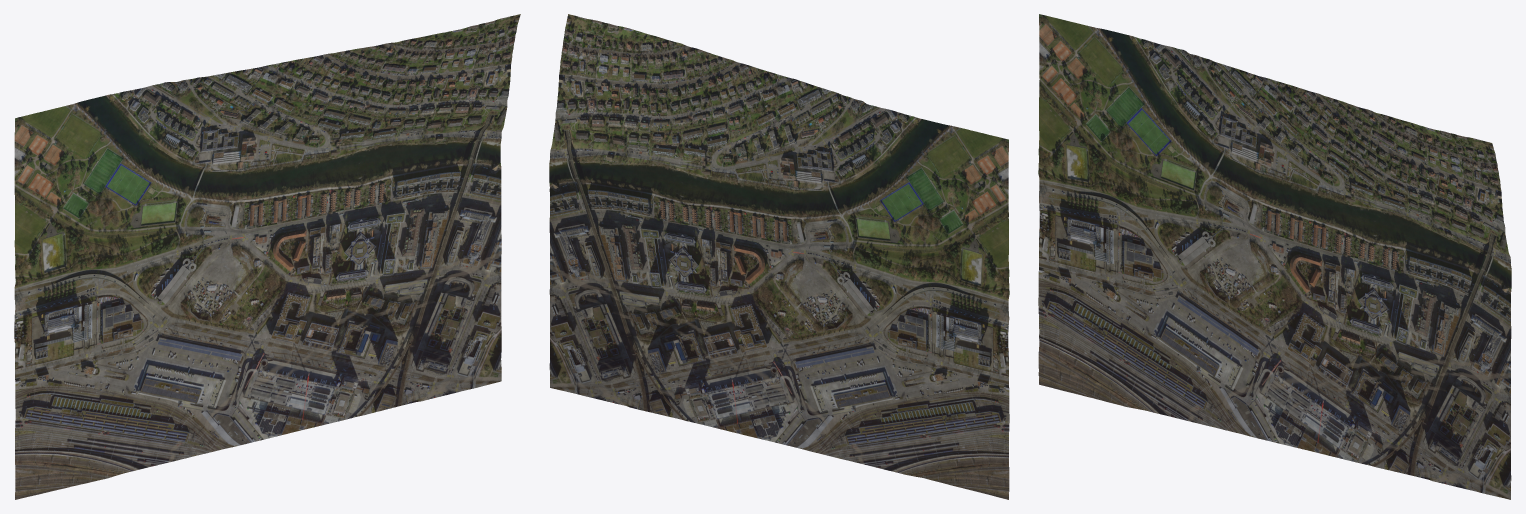
The model's file is wh-terrain.glb.
3 views of the same model, side by side, from view 1: azimuth 30°, elevation 25°; view 2: azimuth 150°, elevation 25°; view 3: azimuth 330°, elevation 25° (orthographic). The views are drawn at different scales.
Parts seen in each view (by area): view 1: RealTerrain; view 2: RealTerrain; view 3: RealTerrain.
Boxes of the visible parts, x1,y1,x2,y2 form: RealTerrain: (14, 14, 520, 499); RealTerrain: (549, 14, 1009, 499); RealTerrain: (1038, 14, 1511, 499).
Size of the model in its own units: 1200 by 900 by 89.85.
Materials: 1 (1 with a texture image).
